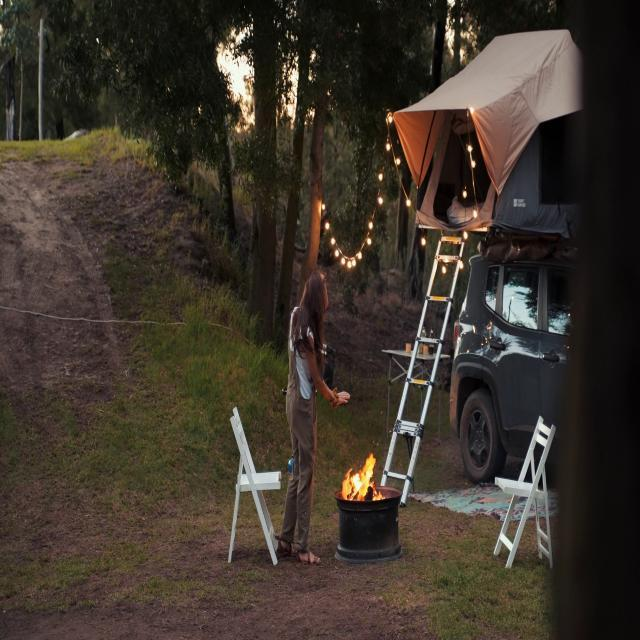Fire: (342, 443, 380, 503)
